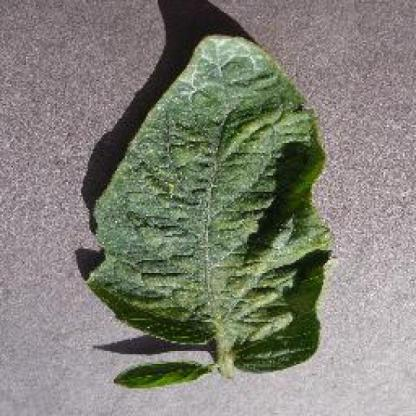Strawberry_Blossom_Blight: (134, 181, 180, 256), (199, 190, 238, 266), (204, 41, 260, 83), (268, 223, 316, 266)
